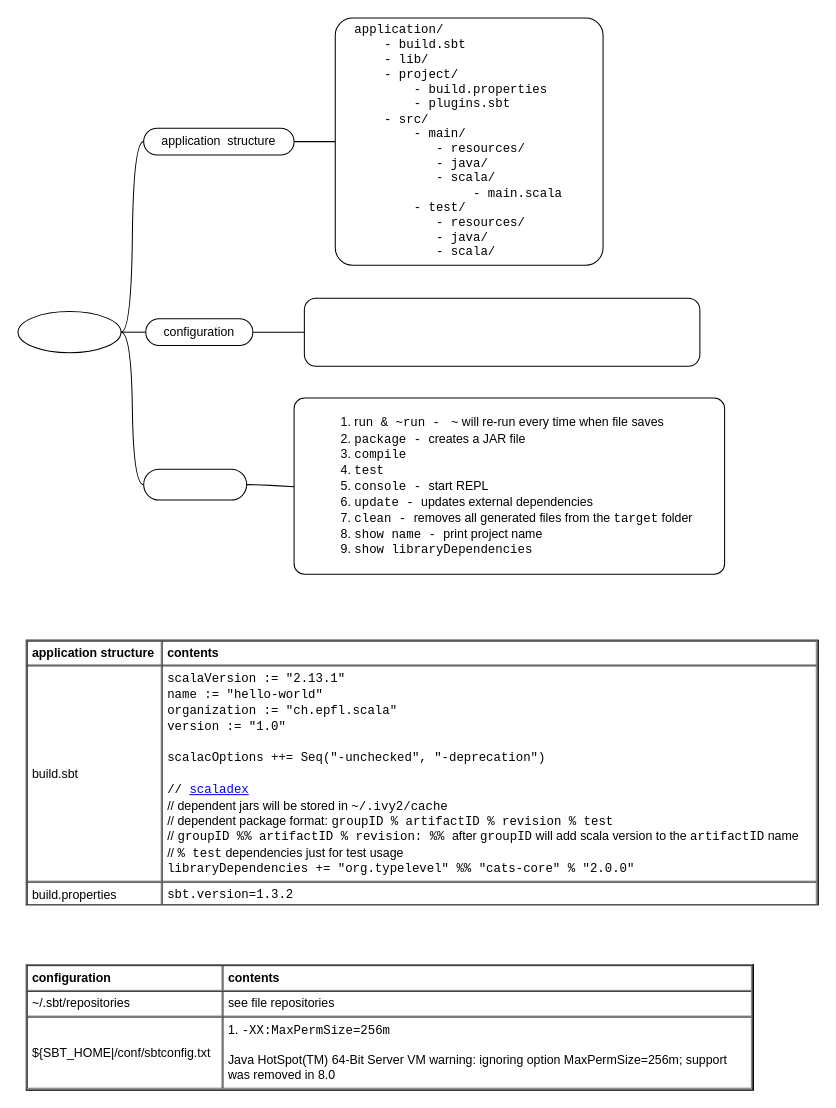
Some shapes in this 836 by 1108 pixel diagram are drawn without their labels. Here are the shapes that lost their labels. From the top down, the centre of each, then its label:
the point at 69,332: sbt
the point at 501,331: ~/.sbt/repositories ${SBT_HOME|/conf/sbtconfig.txt - windows only
the point at 195,484: commands
